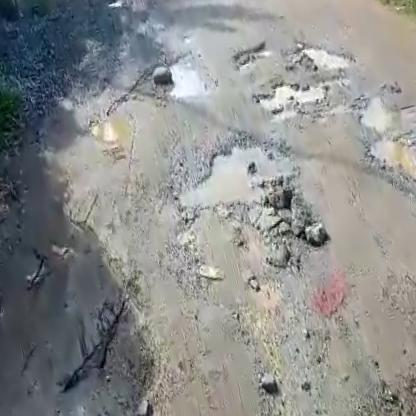pothole: (163, 125, 302, 219), (352, 78, 416, 215), (81, 95, 142, 151), (156, 50, 216, 106), (253, 72, 326, 118), (298, 33, 354, 79), (227, 37, 276, 72)
